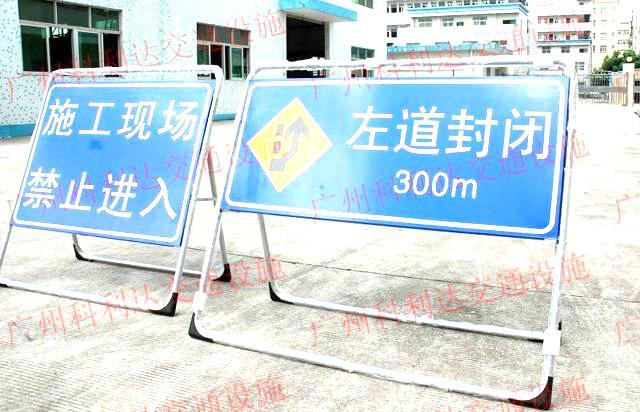sign: (241, 74, 570, 237), (16, 80, 211, 244)
